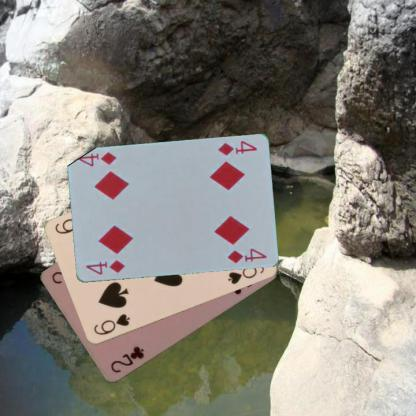2c: (107, 344, 146, 374)
4d: (83, 257, 126, 276), (215, 138, 258, 157)
6s: (91, 311, 131, 337)
